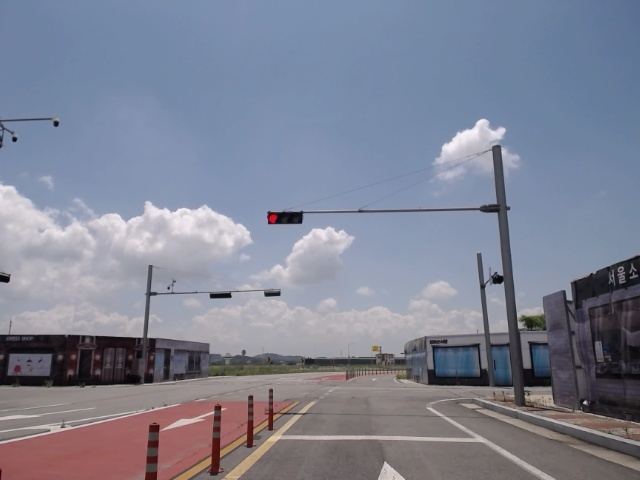red_3: (265, 212, 306, 224)
